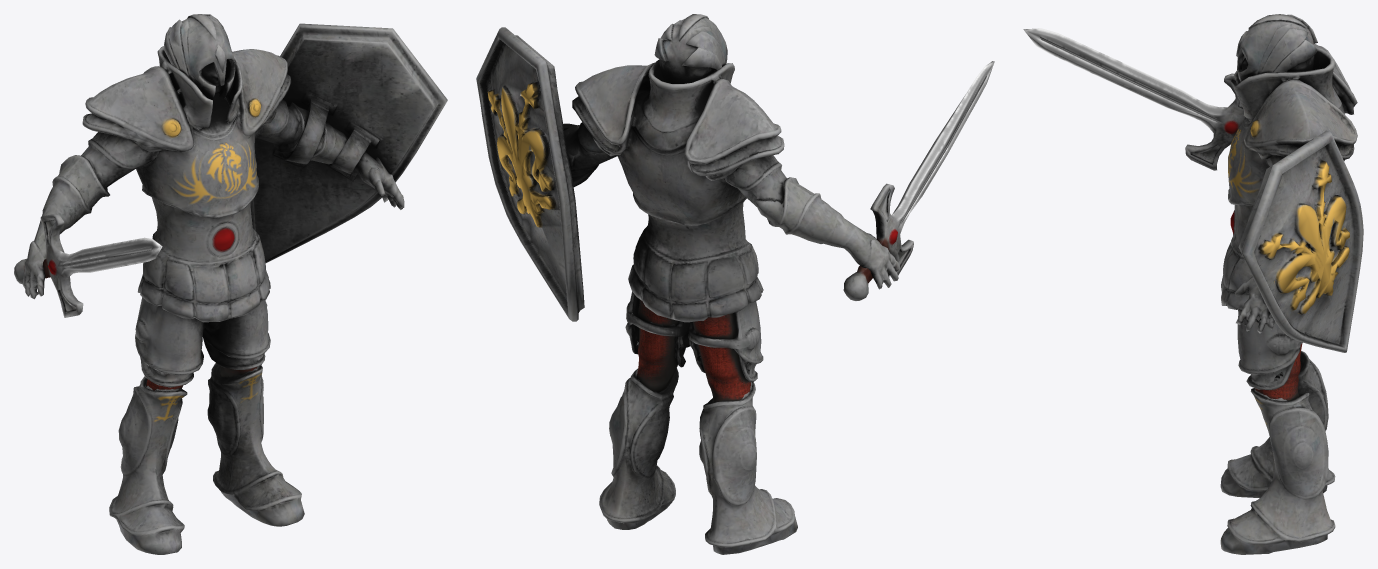
Rendered from armored-knight.glb.
3 renders of one model, left to right at view 1: azimuth 30°, elevation 25°; view 2: azimuth 150°, elevation 25°; view 3: azimuth 270°, elevation 25°, orthographic.
Parts seen in each view (by area): view 1: Group61487.001; view 2: Group61487.001; view 3: Group61487.001.
Boxes of the visible parts, bbox=[...] form: Group61487.001: bbox=[14, 14, 447, 554]; Group61487.001: bbox=[476, 14, 994, 554]; Group61487.001: bbox=[1023, 14, 1363, 554].
Size of the model in its own units: 4.82 by 5.59 by 3.42.
Materials: 1 (1 with a texture image).
